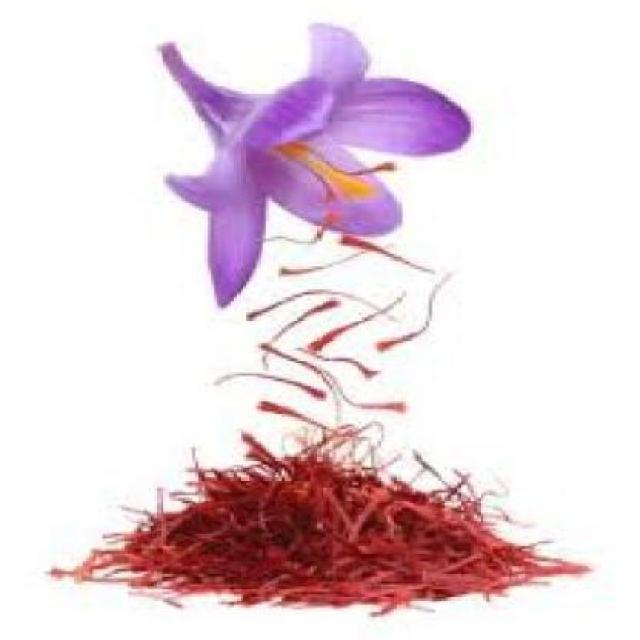Flower: (181, 21, 468, 312)
stigma: (306, 182, 335, 238), (345, 154, 396, 182)
